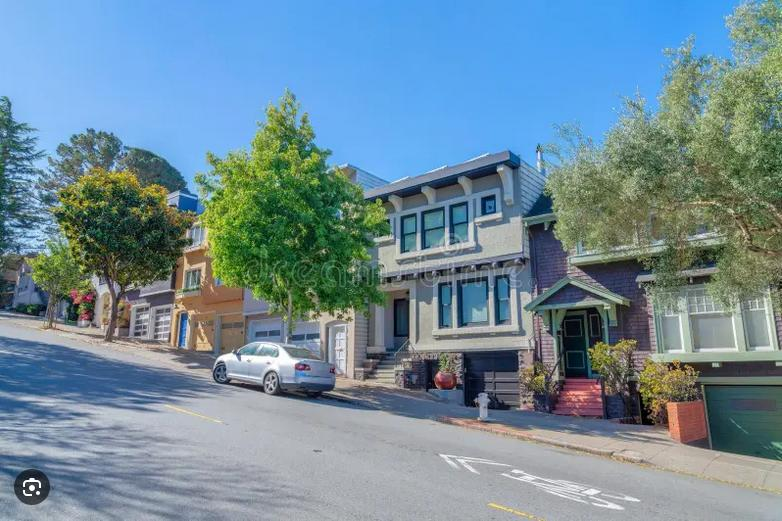casa: (534, 181, 782, 440), (321, 172, 525, 408), (166, 210, 247, 361)
